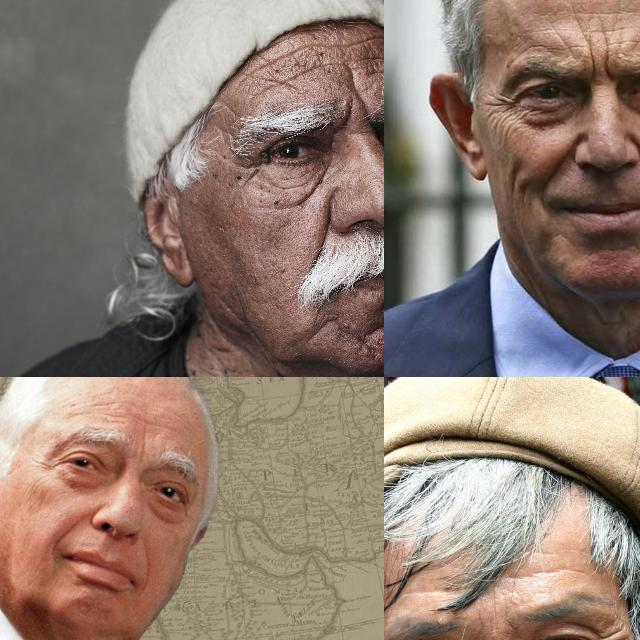chin: (315, 310, 341, 336), (369, 317, 384, 337), (379, 289, 384, 317)
crows_feet: (488, 94, 514, 130), (236, 153, 260, 185), (39, 452, 65, 476), (597, 624, 629, 640)
forehead: (556, 16, 632, 44), (512, 557, 580, 581), (254, 54, 292, 96), (296, 42, 326, 82), (404, 582, 450, 606), (514, 36, 550, 54), (334, 35, 366, 51), (103, 408, 127, 426), (372, 49, 384, 81)
frown_line: (584, 40, 612, 86), (345, 75, 367, 122), (138, 422, 148, 462)
gummy_smile: (546, 138, 574, 184), (313, 212, 335, 264), (54, 508, 82, 548), (138, 546, 158, 598)
masseter: (504, 157, 530, 209), (215, 291, 247, 321), (298, 178, 320, 208)
